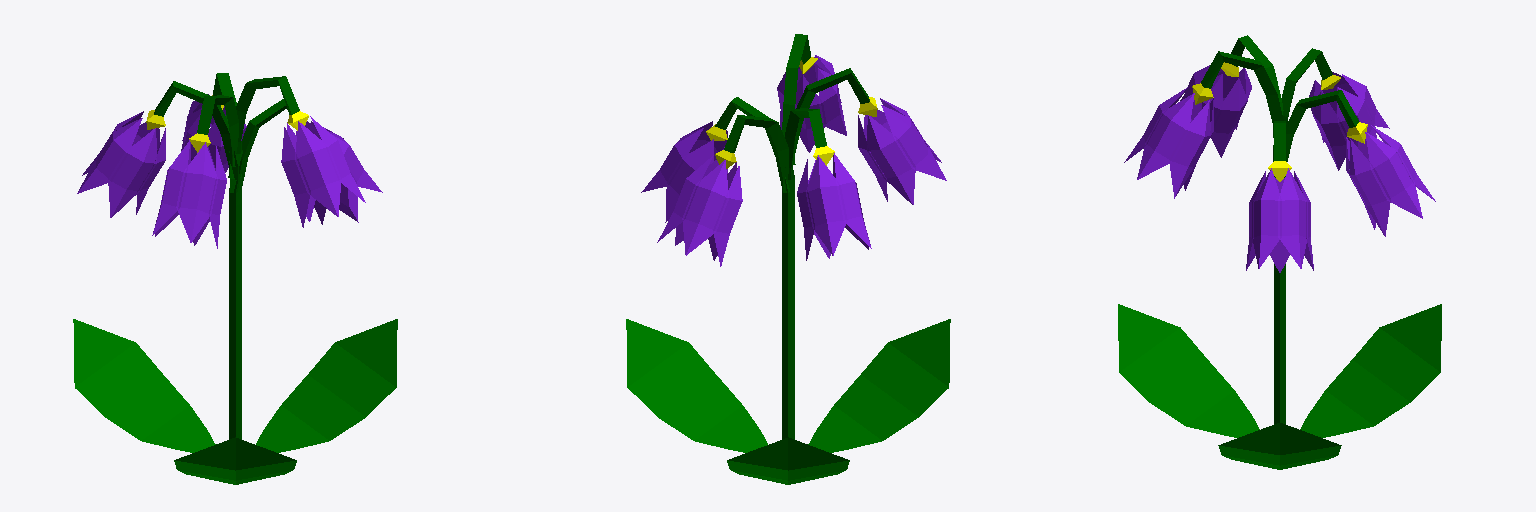
The picture shows the model from 3 angles: view 1: azimuth 30°, elevation 25°; view 2: azimuth 150°, elevation 25°; view 3: azimuth 270°, elevation 25°; orthographic projection.
Parts seen in each view (by area): view 1: bluebells_0002; view 2: bluebells_0002; view 3: bluebells_0002.
Boxes of the visible parts, x1,y1,x2,y2 form: bluebells_0002: [73, 73, 397, 484]; bluebells_0002: [626, 34, 950, 484]; bluebells_0002: [1118, 35, 1441, 469].
Bounding box in the file's own units: 2.3 × 3.11 × 2.28.
Materials: 1 (1 with a texture image).